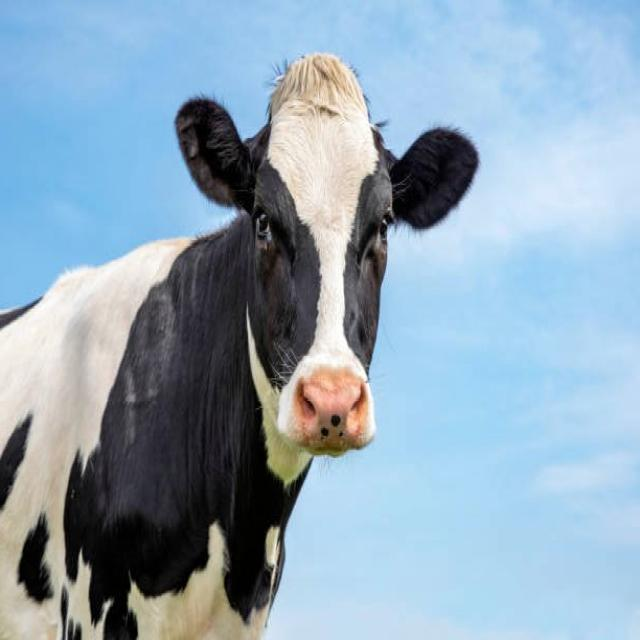cow: (1, 53, 479, 638)
